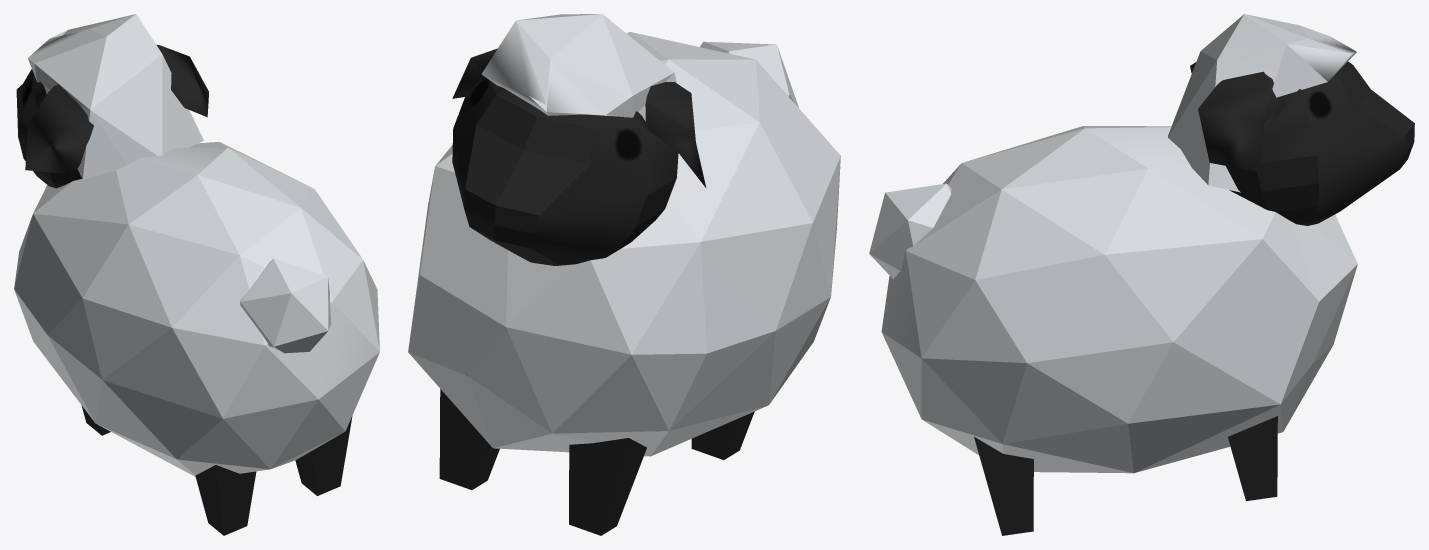
File: petitmouton.glb
The picture shows the model from 3 angles, left to right: view 1: azimuth 30°, elevation 25°; view 2: azimuth 150°, elevation 25°; view 3: azimuth 270°, elevation 25°; orthographic projection. The views are drawn at different scales.
Parts seen in each view (by area): view 1: map.002; view 2: map.002; view 3: map.002.
Boxes of the visible parts, left/top/right/bottom form: map.002: left=14, top=14, right=379, bottom=535; map.002: left=408, top=14, right=840, bottom=535; map.002: left=869, top=14, right=1414, bottom=535.
Bounding box in the file's own units: 0.5272 × 0.7807 × 0.8176.
Materials: 1 (1 with a texture image).
